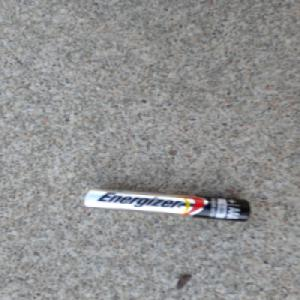Battery: (81, 185, 251, 223)
